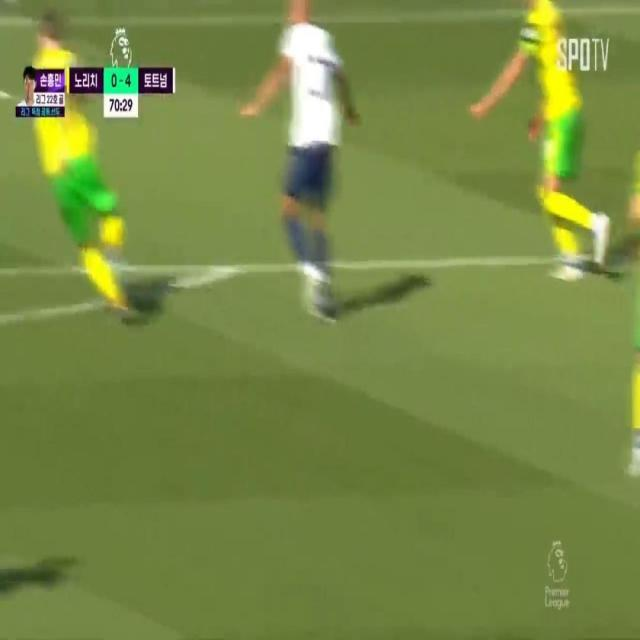player: (25, 0, 146, 352), (251, 0, 354, 334), (501, 0, 611, 290)
